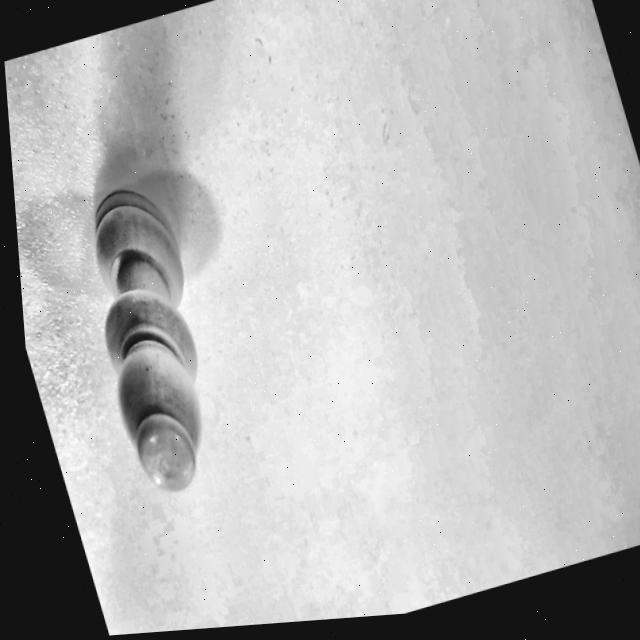white-bishop: (24, 130, 288, 550)
